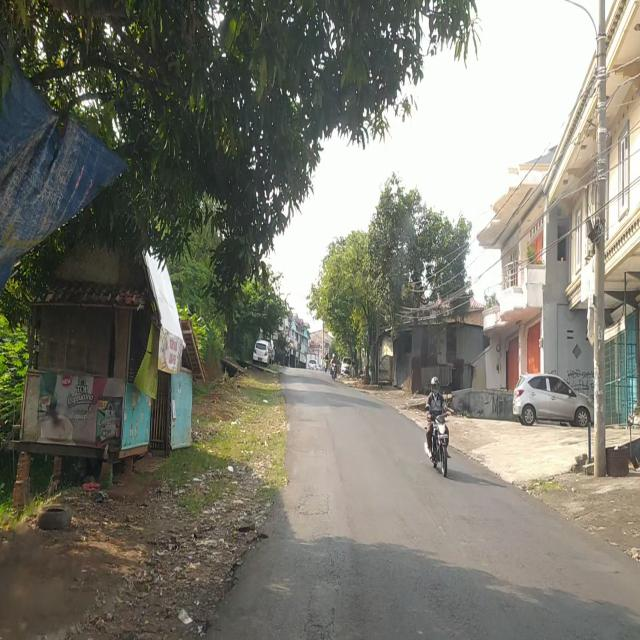Drain Hole: (298, 489, 338, 640)
